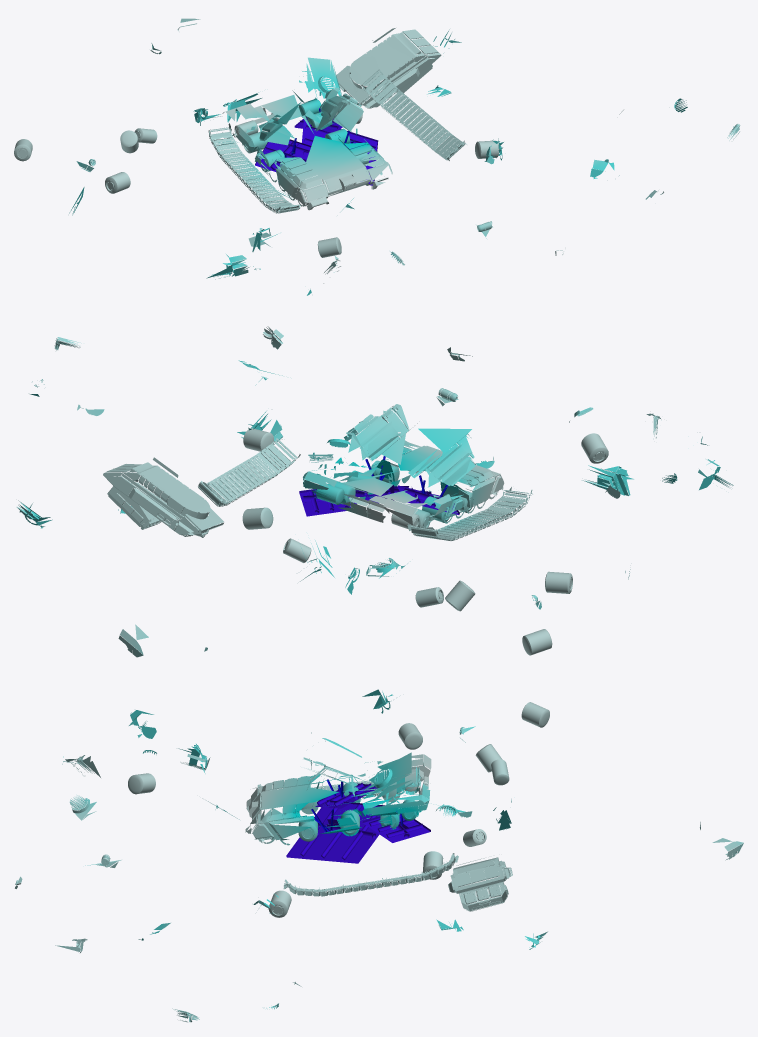
The model's file is hunter_wreck.glb.
3 renders of one model, top to bottom at view 1: azimuth 30°, elevation 25°; view 2: azimuth 150°, elevation 25°; view 3: azimuth 270°, elevation 25°, orthographic. The views are drawn at different scales.
Parts seen in each view (by area): view 1: Hunter, Hunter_Turret, Hunter_plate (×3), wrecked_track_l, wrecked_track_r, frame (×2); view 2: Hunter, Hunter_Turret, Hunter_plate (×2), wrecked_track_l, wrecked_track_r, debris, wrecked_wheel_l2, wrecked_wheel_r4, wrecked_wheel_r2, wrecked_wheel_r0; view 3: Hunter, frame (×2), Hunter_Turret, Hunter_plate, wrecked_track_l.
Part boxes in pixels (x1=…): Hunter: x1=222, y1=89, x2=392, y2=210; Hunter_Turret: x1=335, y1=28, x2=441, y2=108; Hunter_plate (×3): x1=258, y1=57, x2=363, y2=145; wrecked_track_l: x1=361, y1=69, x2=466, y2=160; wrecked_track_r: x1=208, y1=123, x2=302, y2=213; frame (×2): x1=255, y1=118, x2=378, y2=185; Hunter: x1=303, y1=440, x2=504, y2=525; Hunter_Turret: x1=103, y1=457, x2=223, y2=537; Hunter_plate (×2): x1=344, y1=404, x2=475, y2=487; wrecked_track_l: x1=198, y1=438, x2=300, y2=506; wrecked_track_r: x1=407, y1=487, x2=532, y2=540; debris: x1=582, y1=465, x2=633, y2=495; wrecked_wheel_l2: x1=242, y1=507, x2=273, y2=529; wrecked_wheel_r4: x1=581, y1=433, x2=608, y2=463; wrecked_wheel_r2: x1=522, y1=629, x2=552, y2=655; wrecked_wheel_r0: x1=545, y1=571, x2=572, y2=593; Hunter: x1=245, y1=754, x2=431, y2=845; frame (×2): x1=286, y1=800, x2=430, y2=863; Hunter_Turret: x1=447, y1=857, x2=512, y2=911; Hunter_plate: x1=363, y1=752, x2=420, y2=805; wrecked_track_l: x1=283, y1=853, x2=458, y2=896.
Bounding box in the file's own units: 20.97 × 3.02 × 20.
